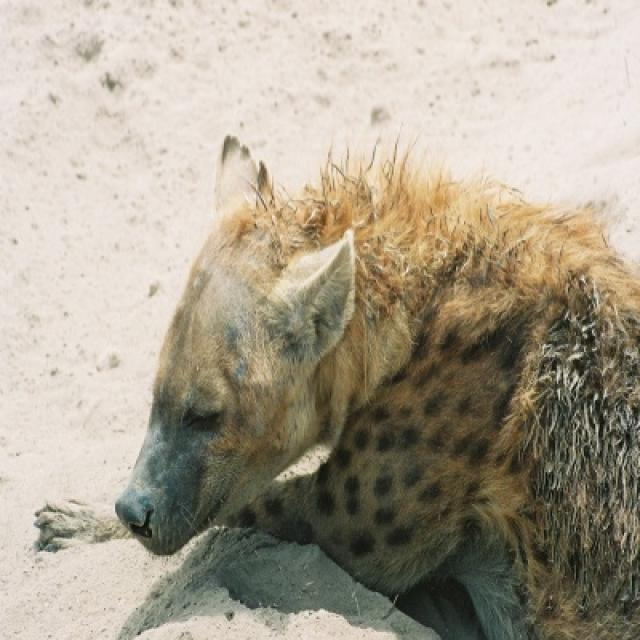hyena: (114, 138, 638, 638)
